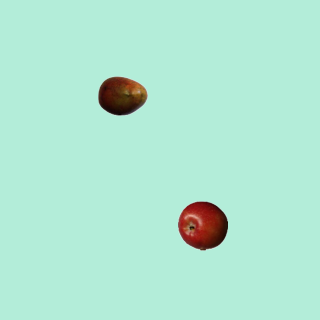Apple Braeburn: (177, 200, 227, 250)
Mango Red: (97, 70, 147, 120)
